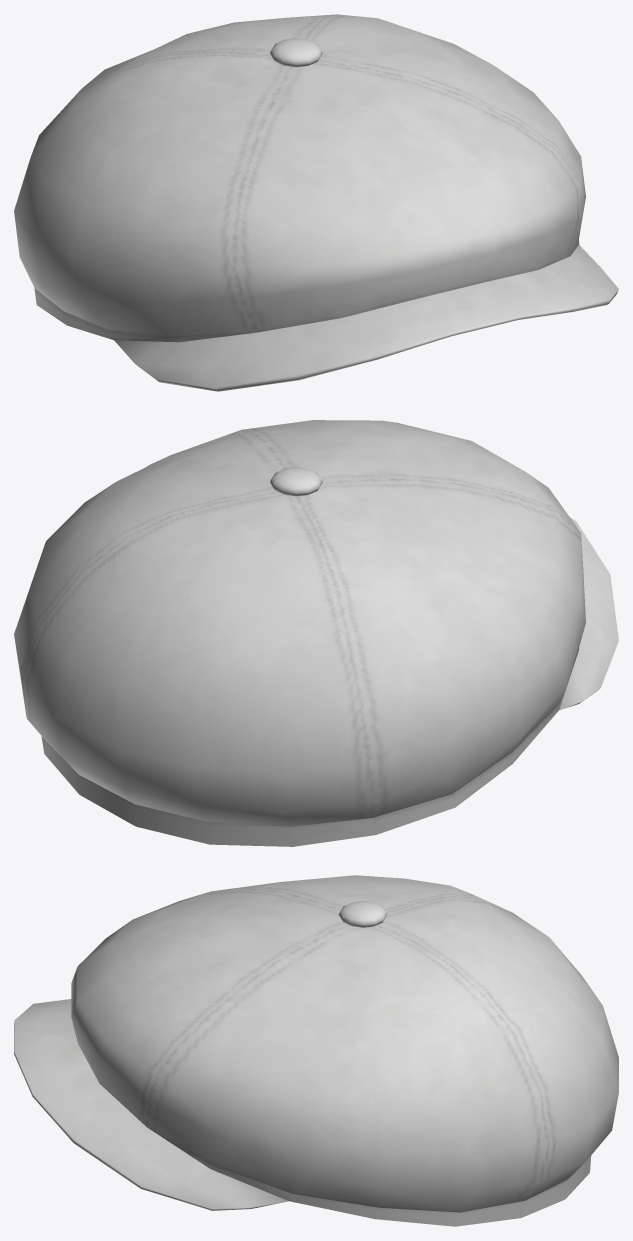
File: p0_hdw0002_00_hdw00.gltf
The picture shows the model from 3 angles, top to bottom: view 1: azimuth 30°, elevation 25°; view 2: azimuth 150°, elevation 25°; view 3: azimuth 270°, elevation 25°; orthographic projection. The views are drawn at different scales.
Visible parts, largest first — view 1: hdw00_casquette_mesh_shape:cap; view 2: hdw00_casquette_mesh_shape:cap; view 3: hdw00_casquette_mesh_shape:cap.
Boxes of the visible parts, box(x1,y1,x2,y2) form: hdw00_casquette_mesh_shape:cap: box(14, 14, 618, 391); hdw00_casquette_mesh_shape:cap: box(14, 420, 618, 846); hdw00_casquette_mesh_shape:cap: box(14, 875, 618, 1226).
Size of what is drawn, in the model's own units: 0.2969 by 0.1583 by 0.3475.
1 material, 1 textured.
